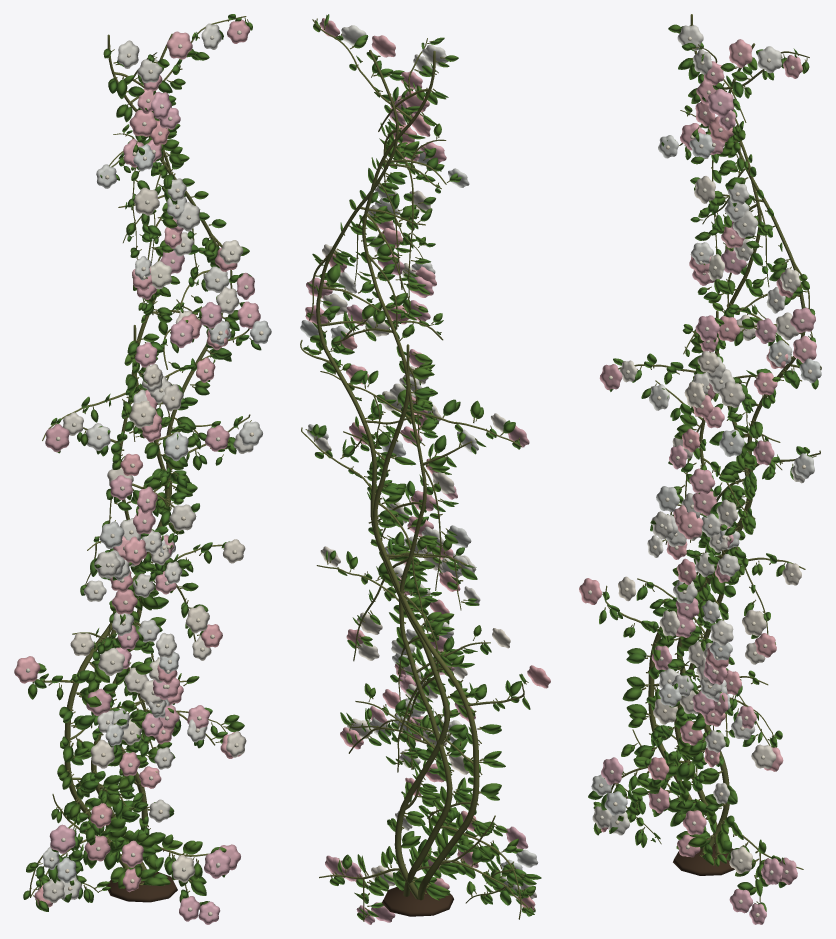
The model's file is climber_clematis_45.glb.
3 views of the same model, side by side, from view 1: azimuth 30°, elevation 25°; view 2: azimuth 150°, elevation 25°; view 3: azimuth 330°, elevation 25° (orthographic). The views are drawn at different scales.
Parts seen in each view (by area): view 1: Sammel Pflanze, Sammel Putz; view 2: Sammel Pflanze, Sammel Putz; view 3: Sammel Pflanze, Sammel Putz.
Part boxes in pixels (box(x1,y1,x2,y2)): Sammel Pflanze: box(14, 14, 271, 924); Sammel Putz: box(29, 16, 251, 902); Sammel Pflanze: box(300, 14, 550, 924); Sammel Putz: box(300, 18, 532, 921); Sammel Pflanze: box(579, 24, 821, 924); Sammel Putz: box(602, 14, 821, 903).
Bounding box in the file's own units: 1.36 × 4.63 × 0.4322.
